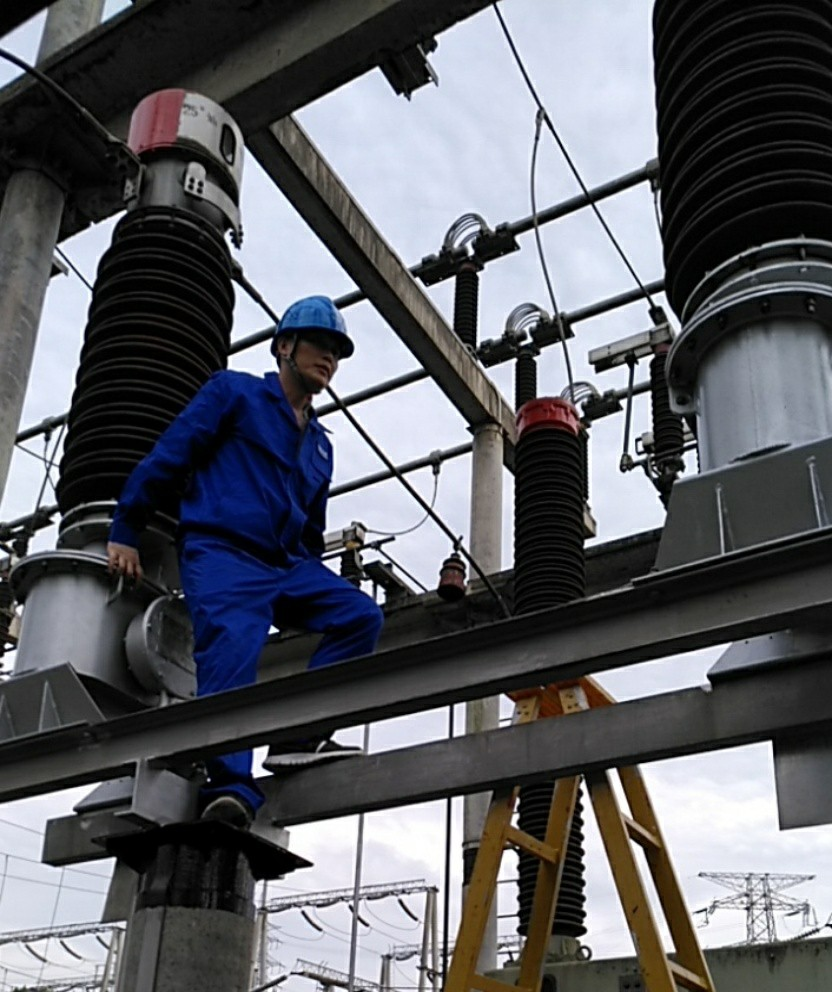hat: (267, 291, 355, 402)
